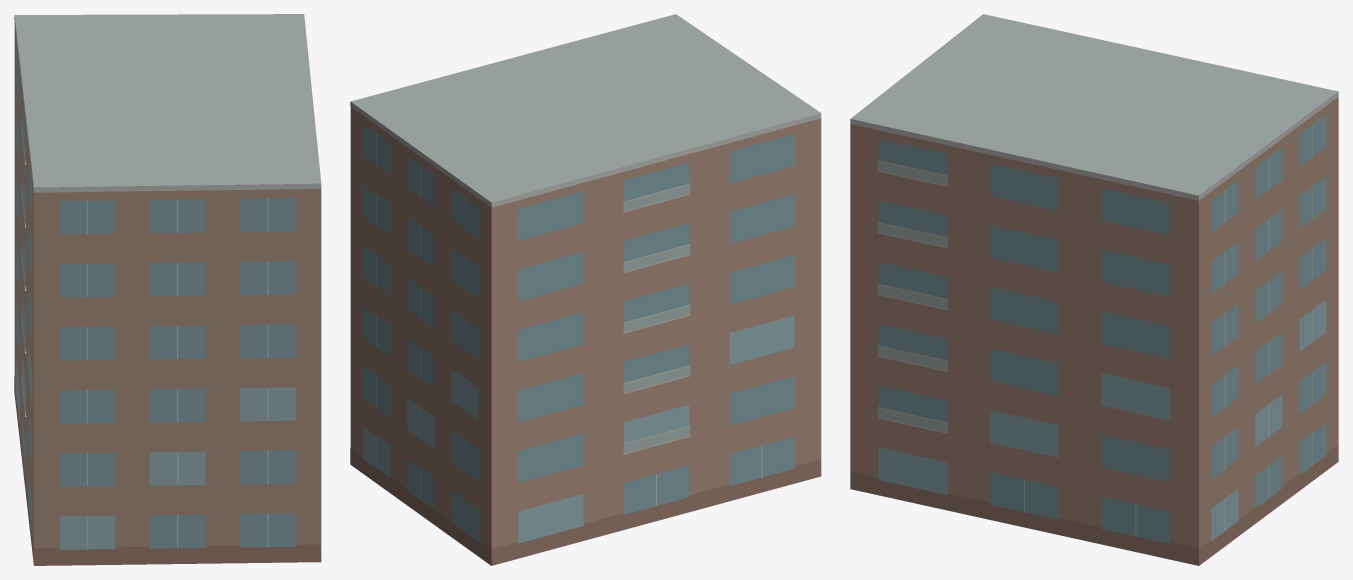
Rendered from survey-upis-32660315.glb.
3 views of the same model, side by side, from view 1: azimuth 30°, elevation 25°; view 2: azimuth 150°, elevation 25°; view 3: azimuth 270°, elevation 25° (orthographic). The views are drawn at different scales.
Parts seen in each view (by area): view 1: survey-upis-32660315.tmp; view 2: survey-upis-32660315.tmp; view 3: survey-upis-32660315.tmp.
Part boxes in pixels (x1,y1,x2,y2): survey-upis-32660315.tmp: (14,14,321,565); survey-upis-32660315.tmp: (350,14,821,565); survey-upis-32660315.tmp: (850,14,1338,565).
Size of the model in its own units: 18.47 by 17.55 by 20.98.
